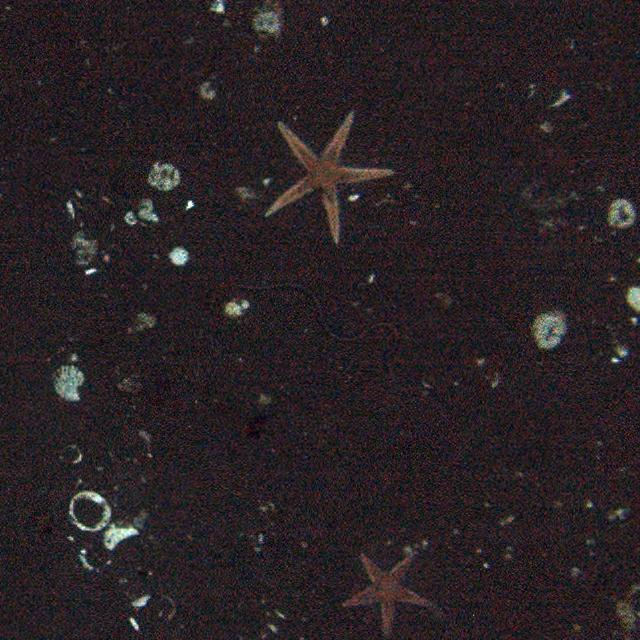eel: (235, 277, 402, 376)
